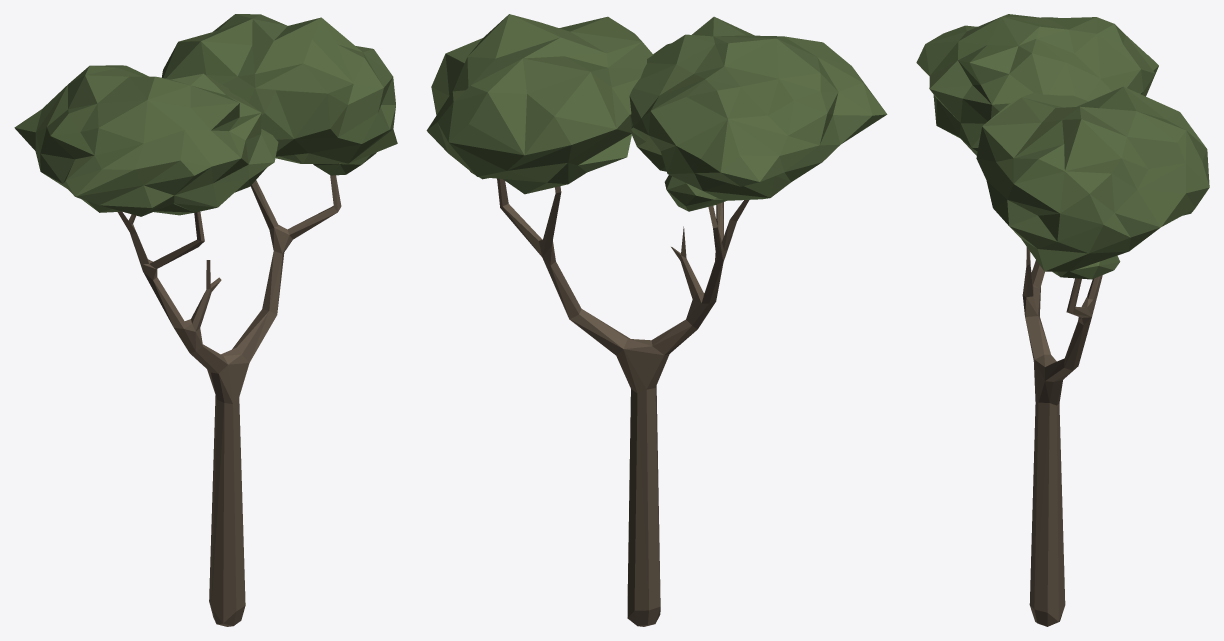
The model's file is SM_Envr_Nature_Tree_Large_07.fbx.
3 views of the same model, side by side, from view 1: azimuth 30°, elevation 25°; view 2: azimuth 150°, elevation 25°; view 3: azimuth 270°, elevation 25° (orthographic). The views are drawn at different scales.
Parts seen in each view (by area): view 1: SM_Envr_Nature_Tree_Large_07; view 2: SM_Envr_Nature_Tree_Large_07; view 3: SM_Envr_Nature_Tree_Large_07.
Boxes of the visible parts, box(x1,y1,x2,y2) form: SM_Envr_Nature_Tree_Large_07: box(14, 14, 397, 626); SM_Envr_Nature_Tree_Large_07: box(426, 14, 887, 626); SM_Envr_Nature_Tree_Large_07: box(916, 14, 1209, 626).
Bounding box in the file's own units: 649 × 966 × 456.
